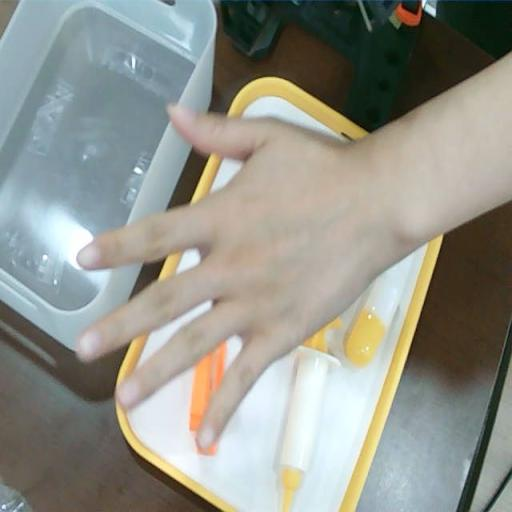hospital: (73, 95, 396, 447)
